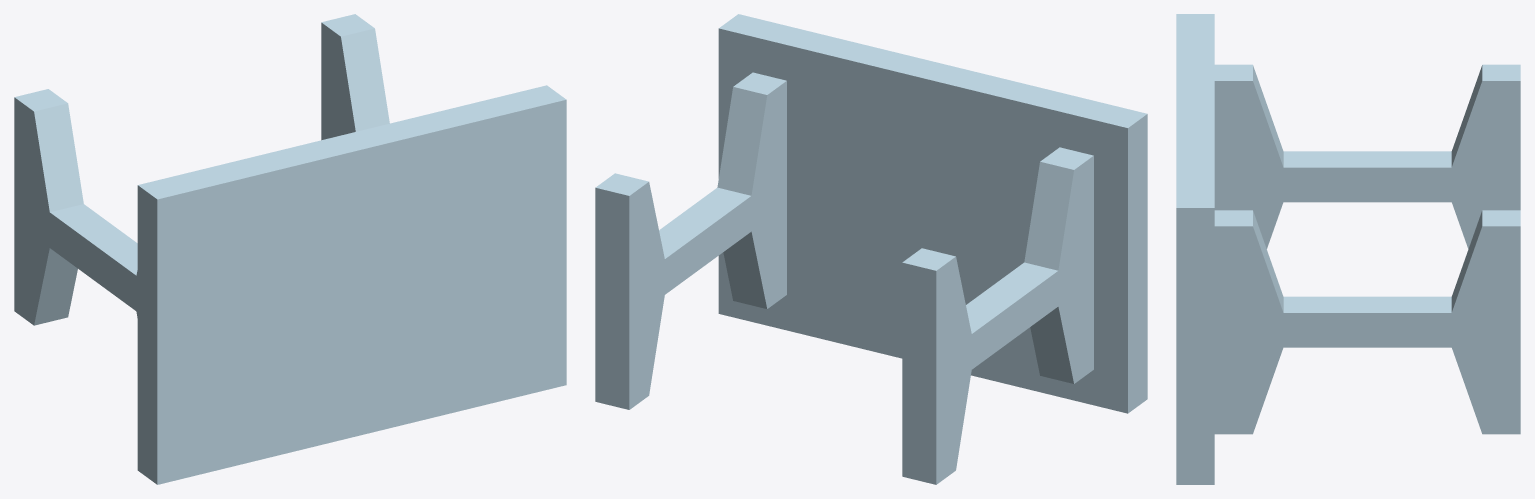
Rendered from Tisch.gltf.
3 renders of one model, left to right at view 1: azimuth 30°, elevation 25°; view 2: azimuth 150°, elevation 25°; view 3: azimuth 270°, elevation 25°, orthographic. The views are drawn at different scales.
Parts seen in each view (by area): view 1: Part 1; view 2: Part 1; view 3: Part 1.
Part boxes in pixels (x1,y1,x2,y2): Part 1: (14,14,566,484); Part 1: (595,14,1147,484); Part 1: (1176,14,1520,484).
Bounding box in the file's own units: 0.12 × 0.08 × 0.09.
